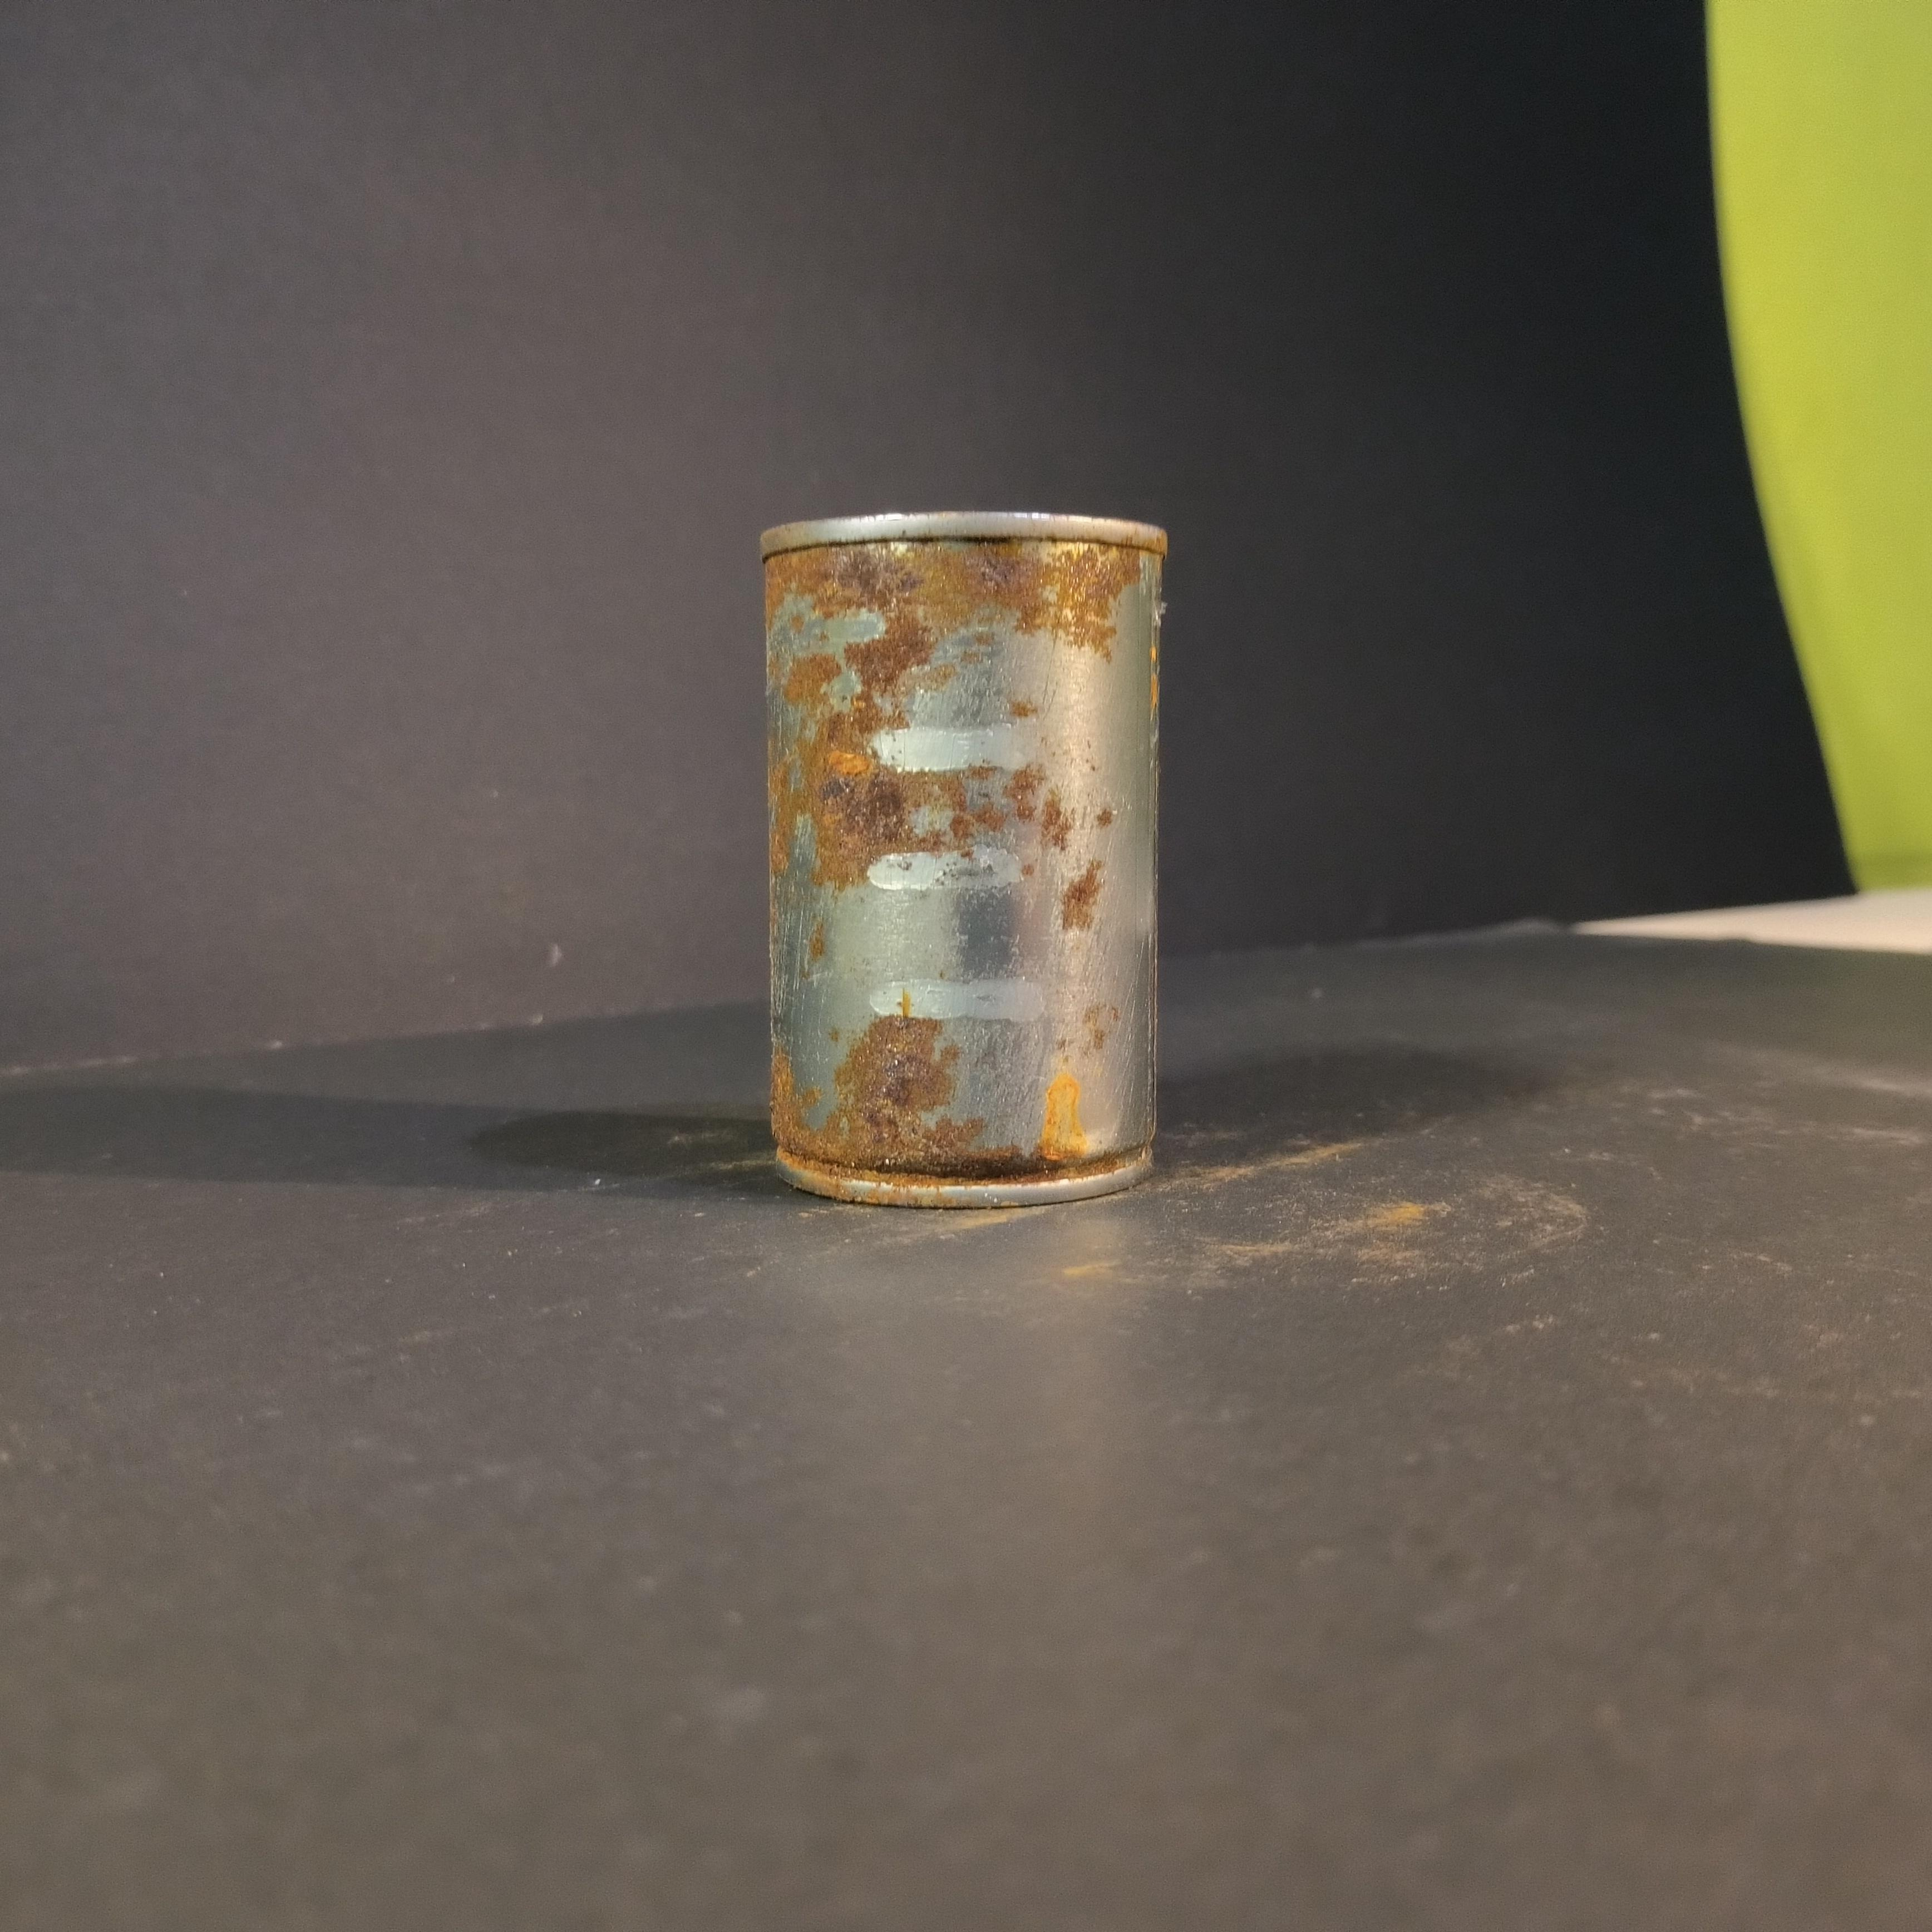Rusted: (740, 478, 1187, 1214)
